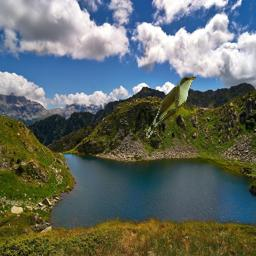Cuckoo: (146, 76, 196, 138)
